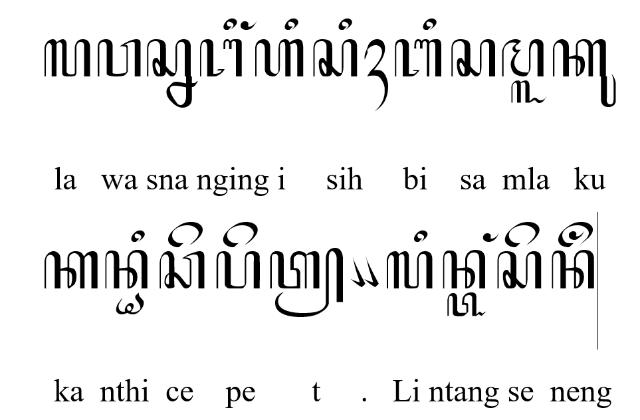-t: (270, 248, 344, 319)
_h1: (365, 39, 389, 111)
_l: (510, 80, 548, 104)
_t: (446, 292, 486, 316)
_th: (116, 291, 144, 315)
b: (393, 38, 442, 78)
c: (158, 251, 206, 289)
e: (222, 220, 258, 248), (168, 220, 202, 248), (504, 222, 540, 248)
eng: (557, 222, 593, 248)
h: (254, 38, 304, 78)
i: (222, 17, 238, 31), (130, 229, 146, 243), (413, 229, 429, 243), (338, 18, 352, 32), (422, 16, 436, 30), (284, 18, 298, 30)
k: (43, 251, 99, 290)
kom: (348, 255, 366, 287), (363, 255, 379, 288)
ku: (552, 38, 616, 107)
l: (44, 38, 92, 78), (385, 251, 433, 290)
m: (500, 38, 546, 78)
n: (104, 249, 150, 289), (550, 250, 596, 290), (442, 249, 486, 289)
ng: (240, 20, 256, 30), (483, 232, 499, 242)
nga: (200, 38, 242, 78)
p: (215, 249, 261, 288)
s: (496, 250, 544, 291), (312, 38, 358, 78), (450, 38, 496, 78)
sn: (146, 37, 198, 108)
w: (96, 40, 142, 78)
